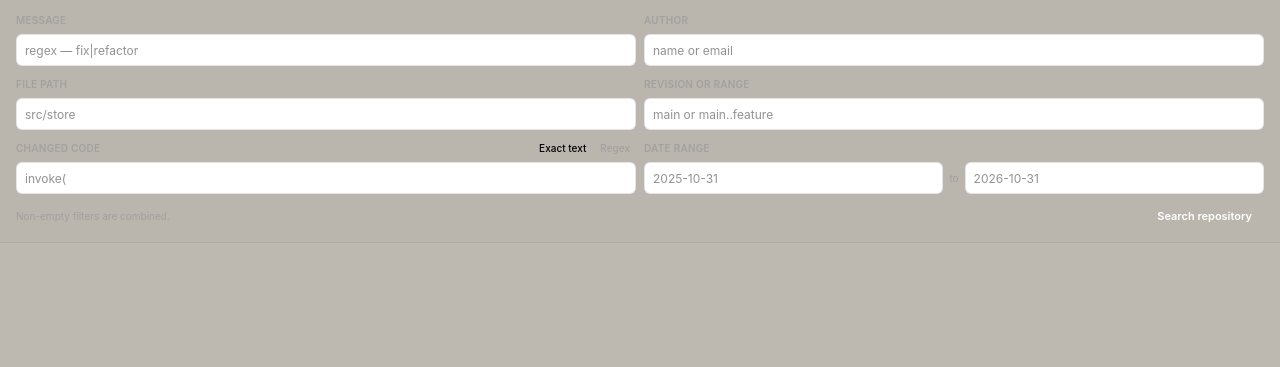
Test: AdvancedHistorySearch async isolation › explains how to narrow a work-bounded partial result
The image size is (1280, 367).
Type "fix" into the field with placeholder "regex — fix|refactor". click: (326, 50)
box: [16,34,636,66]
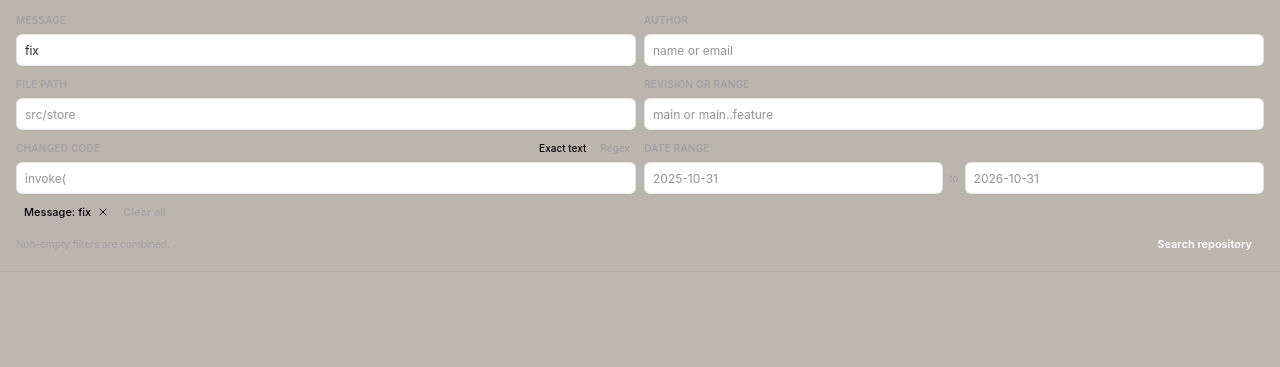
Click the button "Search repository". click: (1205, 244)
box: [1145,230,1264,258]
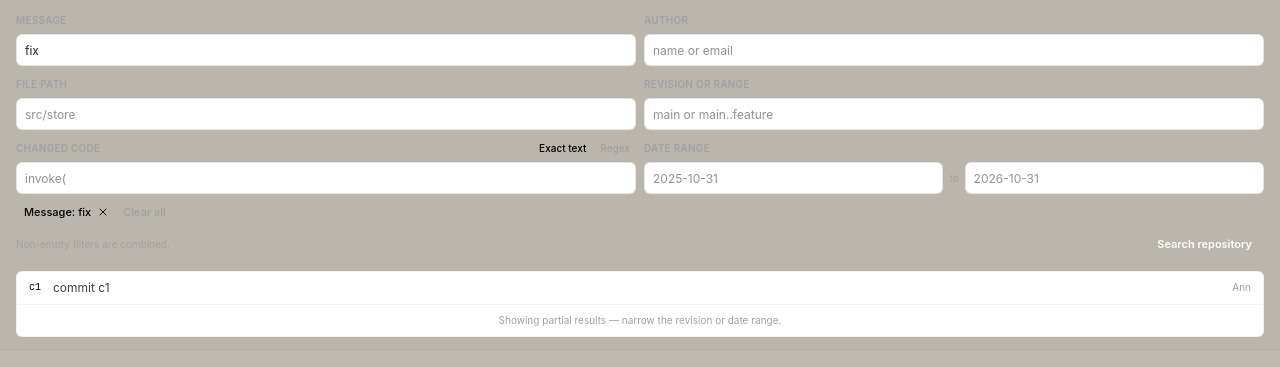
Expected: the text "Showing partial results — narrow the revision or date range." is shown, [499,314,781,326]
